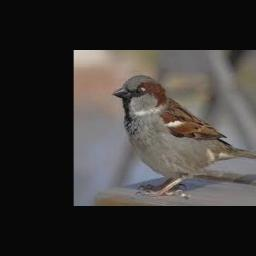Sparrow: (111, 74, 256, 196)
